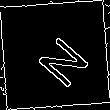N_NW: (23, 23, 87, 87)
